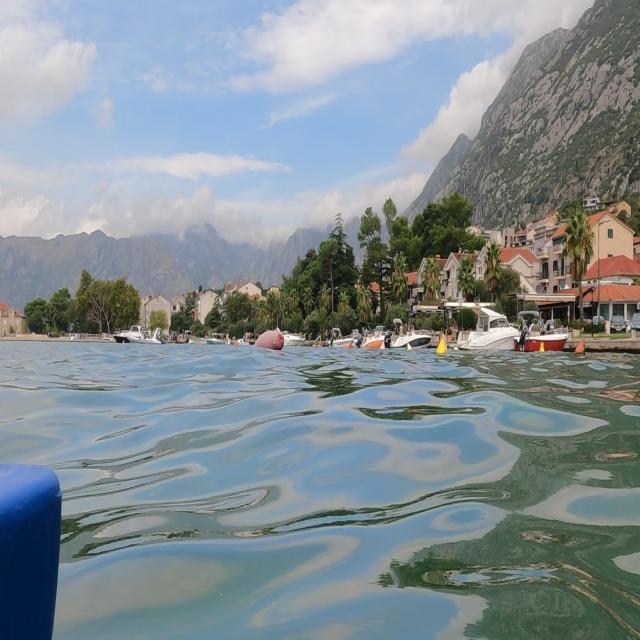boat: (455, 287, 574, 360), (111, 316, 195, 352), (378, 316, 434, 354), (326, 321, 382, 353)
buoy: (248, 327, 291, 362), (433, 334, 451, 374)
